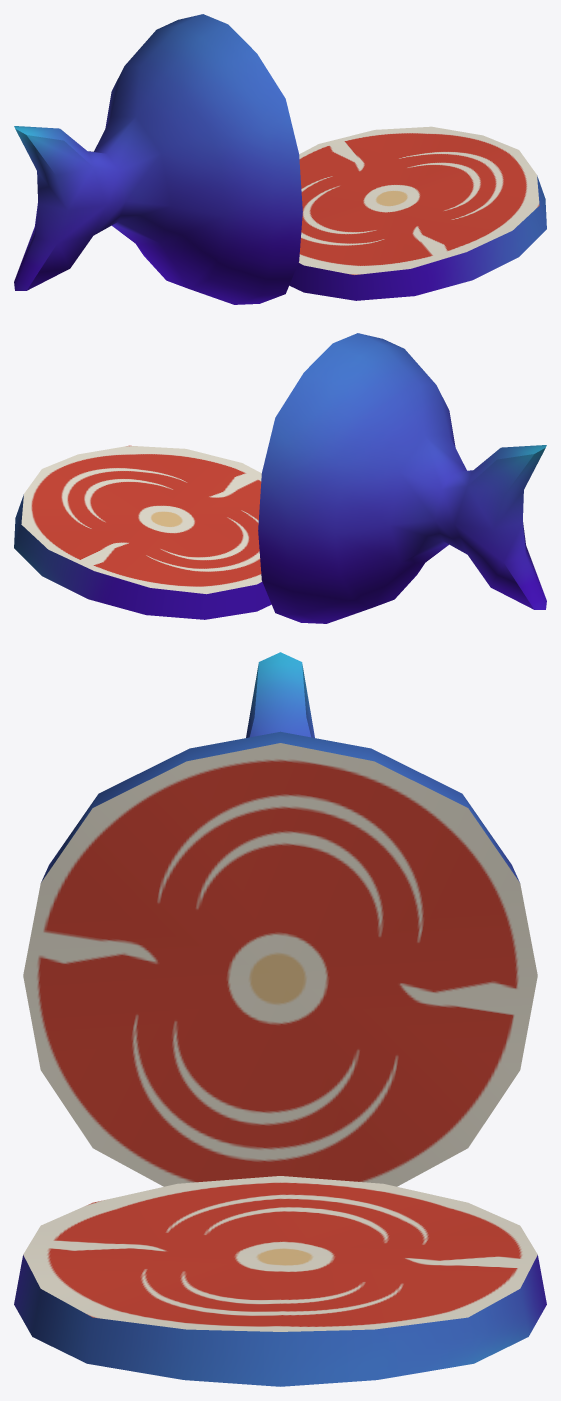
Rendered from Fish_01_S1.fbx.
3 views of the same model, one above another, from view 1: azimuth 30°, elevation 25°; view 2: azimuth 150°, elevation 25°; view 3: azimuth 270°, elevation 25° (orthographic). The views are drawn at different scales.
Visible parts, largest first — view 1: Fish_01_S1; view 2: Fish_01_S1; view 3: Fish_01_S1.
Part boxes in pixels (x1,y1,x2,y2): Fish_01_S1: (14,14,546,304); Fish_01_S1: (14,333,546,623); Fish_01_S1: (14,652,546,1386).
Size of the model in its own units: 83.04 by 41.3 by 42.86.
